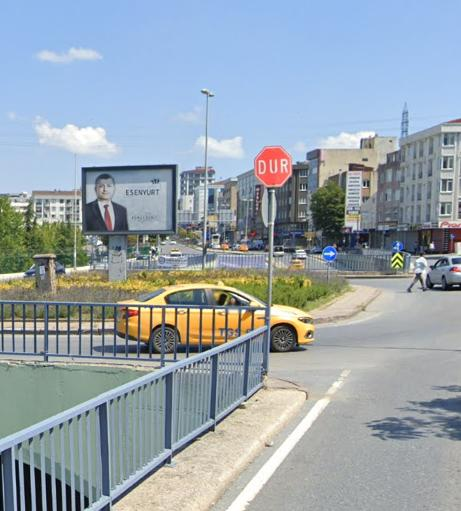stop: (254, 145, 291, 187)
